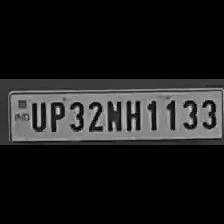1: (160, 96, 178, 130), (144, 97, 160, 131)
2: (84, 97, 104, 132)
3: (64, 97, 84, 132), (178, 96, 198, 130), (198, 96, 218, 130)
H: (122, 96, 142, 132)
N: (104, 97, 124, 132)
P: (46, 98, 66, 132)
U: (27, 98, 46, 132)
